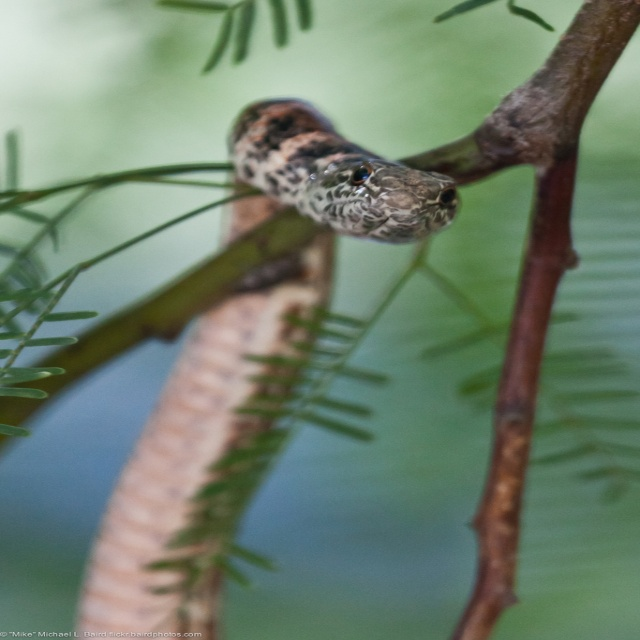Snake: (62, 100, 459, 638)
